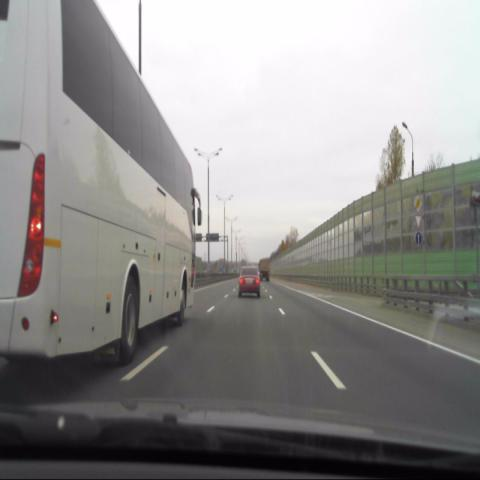2_2: (412, 195, 422, 212)
2_4: (414, 214, 422, 228)
4_1_1: (414, 231, 422, 246)
